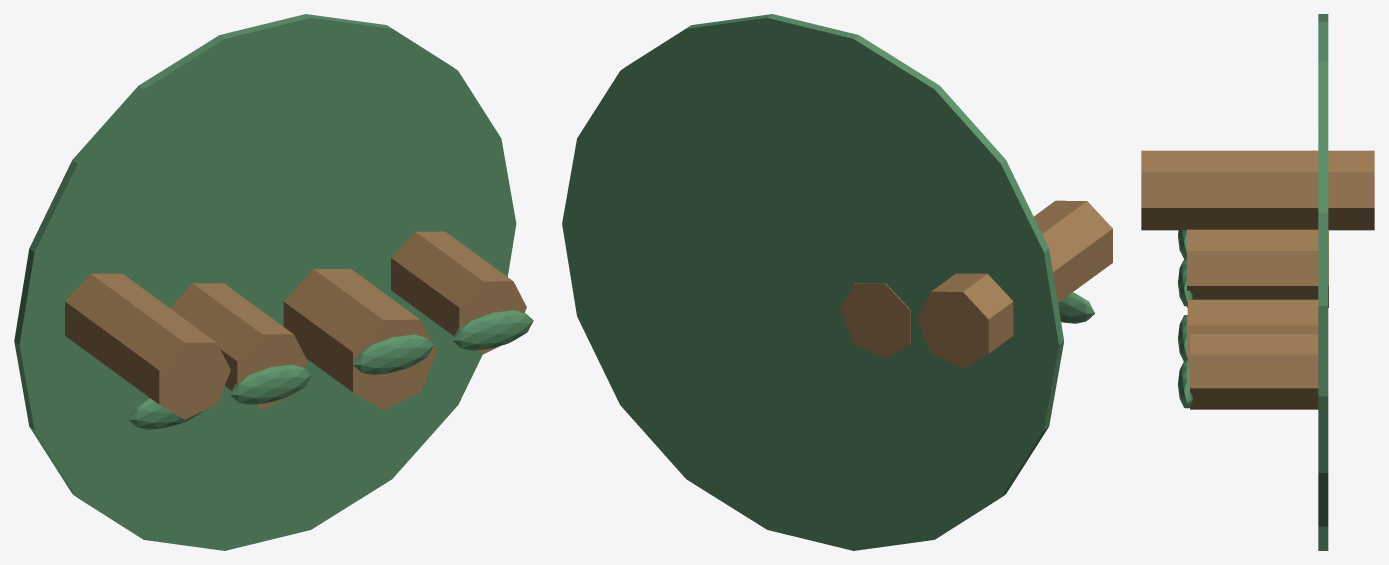
The model's file is 03_ambient_object_cluster.glb.
The picture shows the model from 3 angles, left to right: view 1: azimuth 30°, elevation 25°; view 2: azimuth 150°, elevation 25°; view 3: azimuth 270°, elevation 25°; orthographic projection. The views are drawn at different scales.
Parts seen in each view (by area): view 1: scatter_base, root_stump_0, root_stump_2, root_stump_3, root_stump_1, moss_3, moss_2, moss_1, moss_0; view 2: scatter_base, root_stump_0, root_stump_1, moss_0; view 3: root_stump_0, root_stump_3, root_stump_1, scatter_base, root_stump_2, moss_3, moss_1, moss_2.
Boxes of the visible parts, x1=… form: scatter_base: x1=14, y1=14, x2=516, y2=550; root_stump_0: x1=65, y1=273, x2=230, y2=419; root_stump_2: x1=283, y1=269, x2=436, y2=410; root_stump_3: x1=391, y1=231, x2=526, y2=354; root_stump_1: x1=170, y1=283, x2=307, y2=409; moss_3: x1=452, y1=310, x2=533, y2=350; moss_2: x1=352, y1=334, x2=433, y2=374; moss_1: x1=230, y1=364, x2=311, y2=404; moss_0: x1=128, y1=398, x2=203, y2=429; scatter_base: x1=562, y1=14, x2=1063, y2=550; root_stump_0: x1=917, y1=200, x2=1112, y2=368; root_stump_1: x1=840, y1=283, x2=910, y2=358; moss_0: x1=1058, y1=292, x2=1094, y2=323; root_stump_0: x1=1141, y1=150, x2=1374, y2=230; root_stump_3: x1=1190, y1=334, x2=1318, y2=409; root_stump_1: x1=1187, y1=229, x2=1328, y2=307; scatter_base: x1=1318, y1=14, x2=1328, y2=550; root_stump_2: x1=1187, y1=299, x2=1318, y2=360; moss_3: x1=1178, y1=360, x2=1192, y2=408; moss_1: x1=1178, y1=258, x2=1192, y2=306; moss_2: x1=1178, y1=315, x2=1187, y2=361.
Bounding box in the file's own units: 1.9 × 1.87 × 0.8231.
